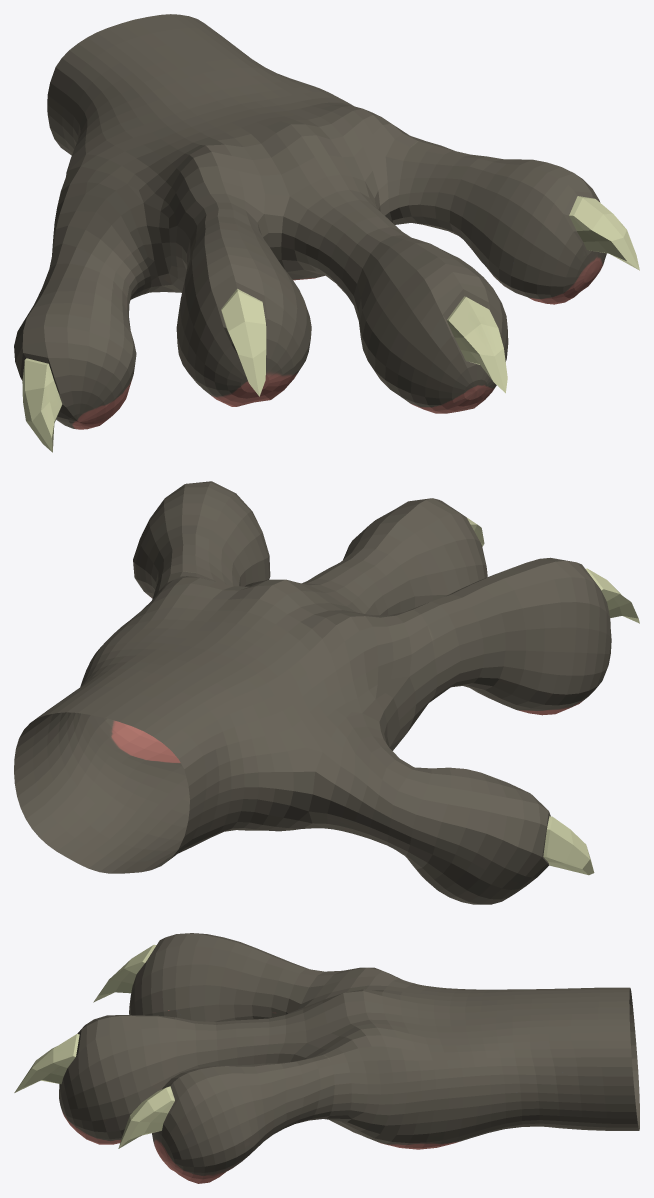
File: hand.gltf
The picture shows the model from 3 angles, top to bottom: view 1: azimuth 30°, elevation 25°; view 2: azimuth 150°, elevation 25°; view 3: azimuth 270°, elevation 25°; orthographic projection. The views are drawn at different scales.
Parts seen in each view (by area): view 1: hand; view 2: hand; view 3: hand.
Boxes of the visible parts, x1,y1,x2,y2 form: hand: [14, 14, 639, 452]; hand: [14, 481, 639, 904]; hand: [14, 933, 639, 1183].
Size of the model in its own units: 5.02 by 2.41 by 6.51.
1 material, 1 textured.
